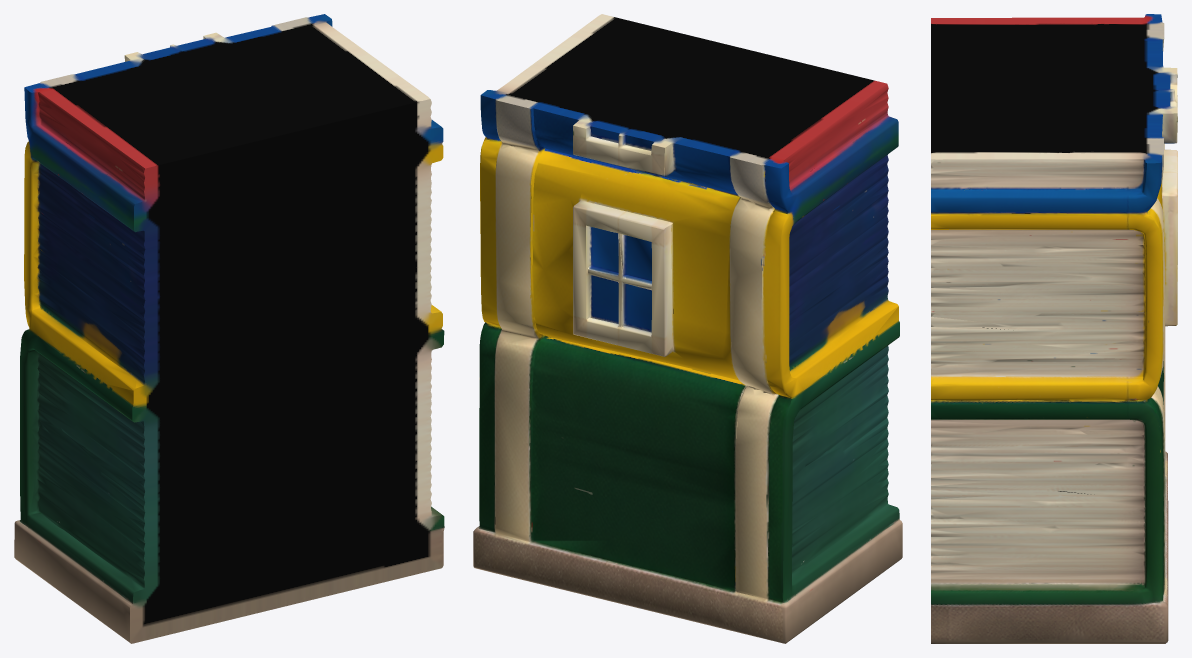
The model's file is 4-ground-floor-back-right.fbx.
3 renders of one model, left to right at view 1: azimuth 30°, elevation 25°; view 2: azimuth 150°, elevation 25°; view 3: azimuth 270°, elevation 25°, orthographic.
Visible parts, largest first — view 1: ground-floor-back-right; view 2: ground-floor-back-right; view 3: ground-floor-back-right.
Part boxes in pixels (x1,y1,x2,y2): ground-floor-back-right: (14, 14, 444, 643); ground-floor-back-right: (473, 14, 902, 643); ground-floor-back-right: (931, 14, 1177, 643).
Bounding box in the file's own units: 3948 × 5657 × 2642.
1 material, 1 textured.
